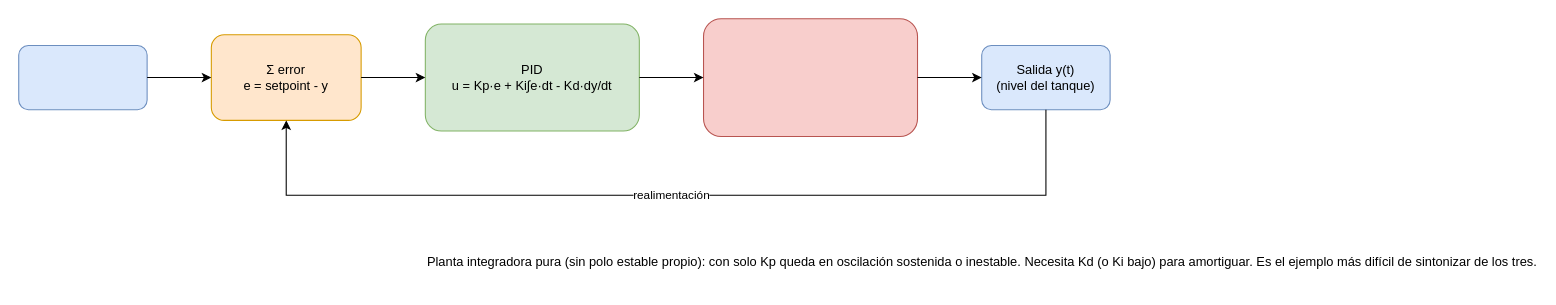
The diagram is 1556 pixels wide and 305 high, and some of its shapes have lost their labels. Here are the shapes that lost their labels. From the top down, the centre of each, then its label:
At (x=82, y=77): "Setpoint (nivel deseado)".
At (x=810, y=77): "Planta: Tanque de agua G(s) = K / s dy/dt = K·u".
